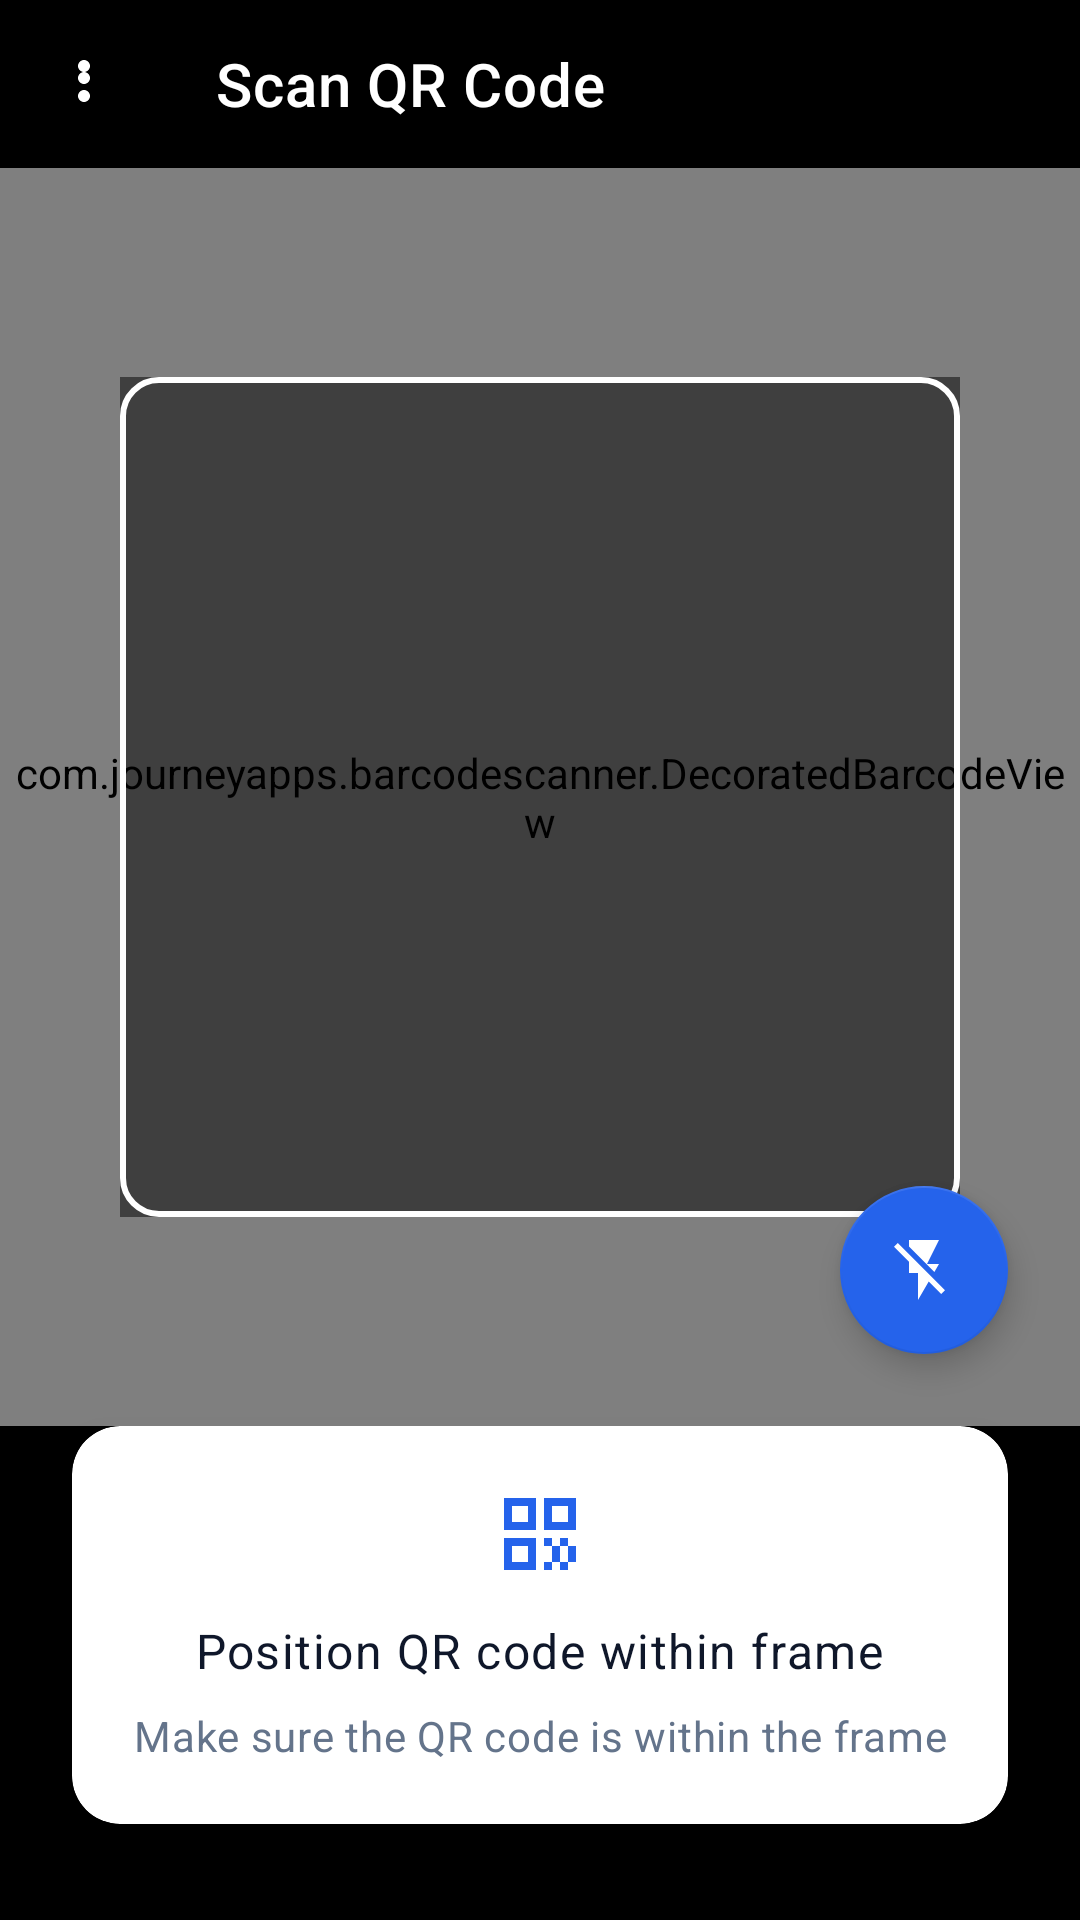

Icons on this 1080 × 1920 Android screen, each with the point to tap as point (x, y):
Toggle Flashlight: point (924, 1270)
